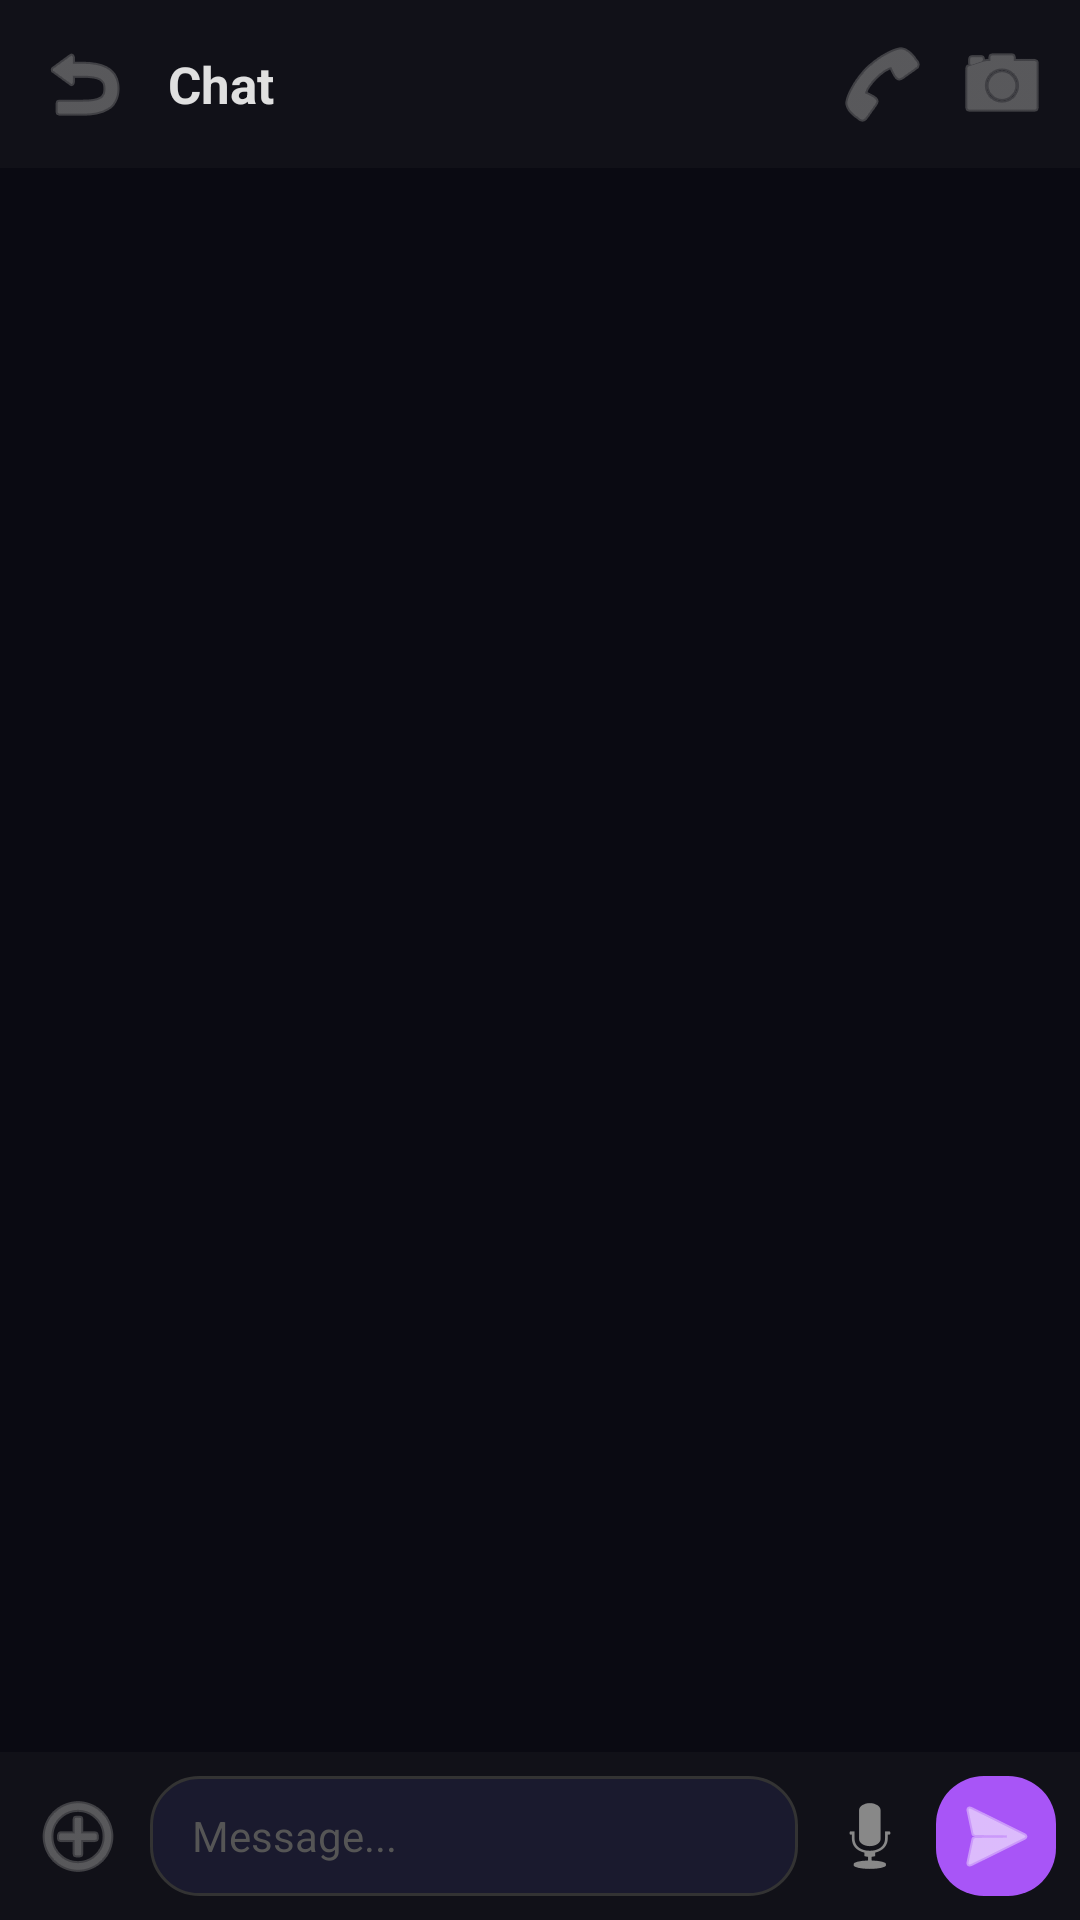

Named icons in this screenshot (1080×1920) and their centers, [x,y]:
Attach: [78,1836]
Back: [85,85]
Send: [996,1836]
Voice: [870,1836]
Voice call: [882,84]
